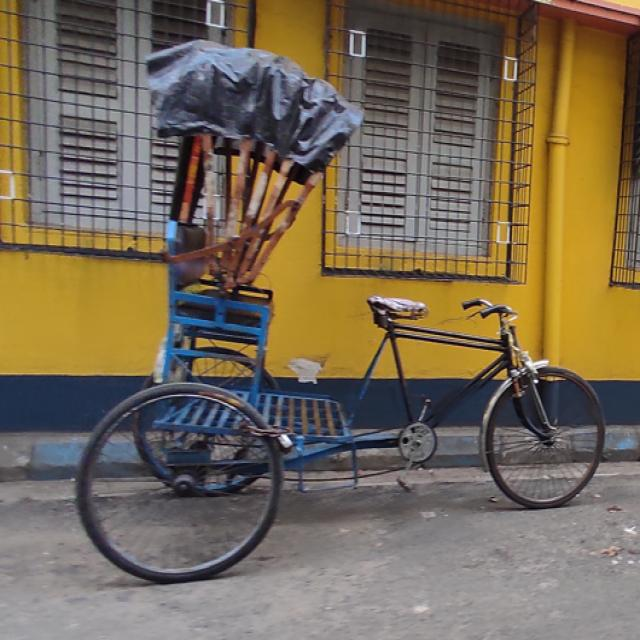rickshaw: (73, 37, 610, 588)
